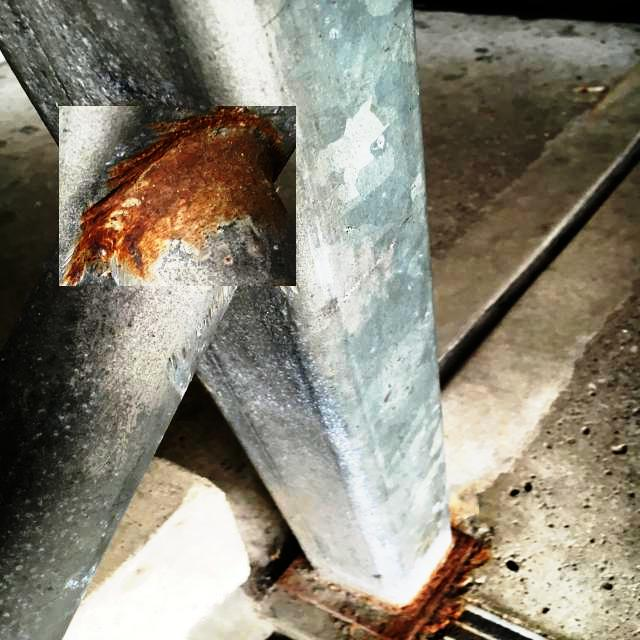Corrosion: (83, 106, 288, 265), (413, 530, 489, 640), (59, 193, 126, 286), (373, 594, 436, 640), (278, 554, 312, 584)
